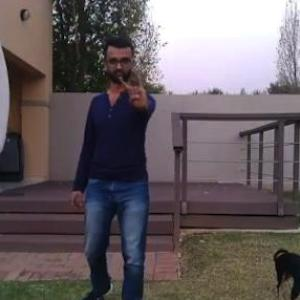takeoff-hand: (114, 61, 153, 111)
